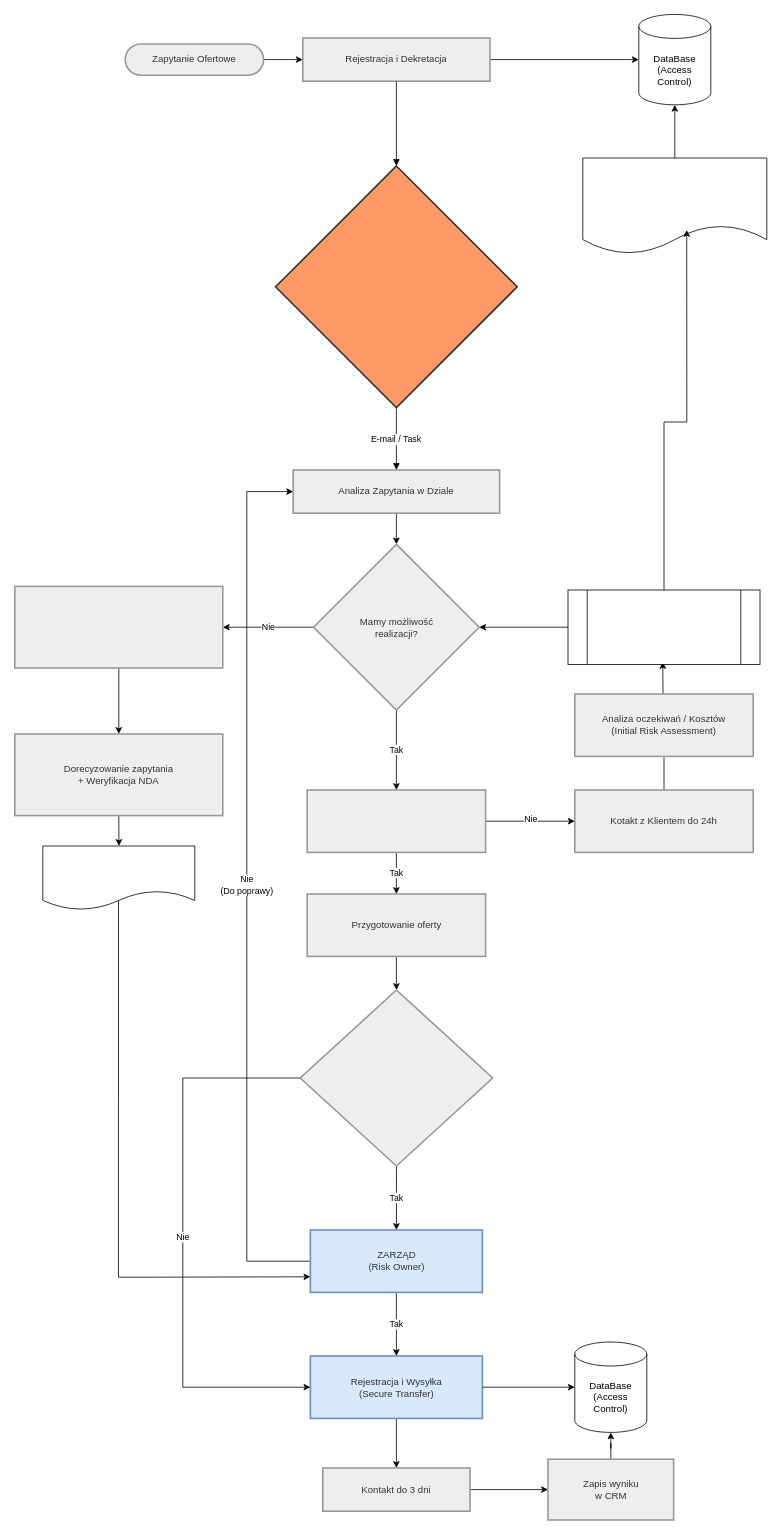
Some shapes in this 781 by 1534 pixel diagram are drawn without their labels. The shapes that lost their labels are listed below. From the top down, each one's centre as x and y in pixels, then its label:
the point at 674,205: Zapis Wyniku rozmowy z Klientem
the point at 396,286: Weryfikacja w CRM i przypisanie odpowiedzialnego
the point at 118,626: Rozeznanie możliwości + Analiza ryzyka dostawców
the point at 663,626: Termi przesłania Oferty
the point at 396,821: Mozliwosc przygotowania Oferty i wysłania oferty w 48h
the point at 118,877: Przygotowanie odpowiedzi
the point at 396,1077: Czy oferta wymaga analizy ryzyka?
